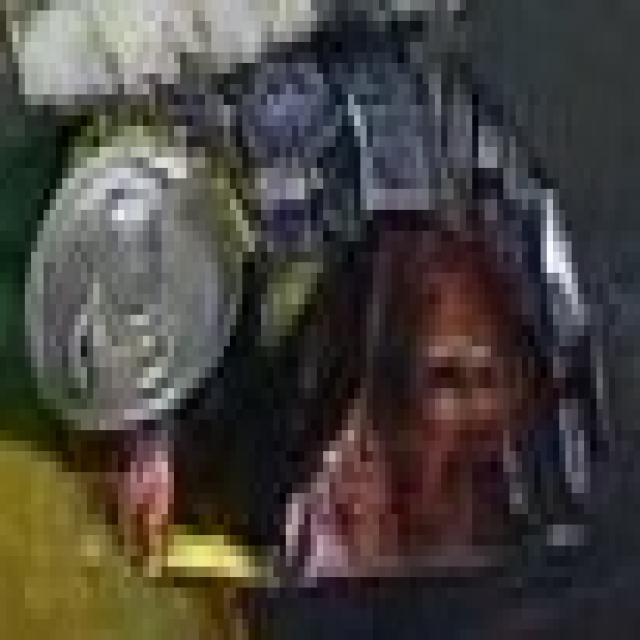can: (13, 0, 639, 607)
